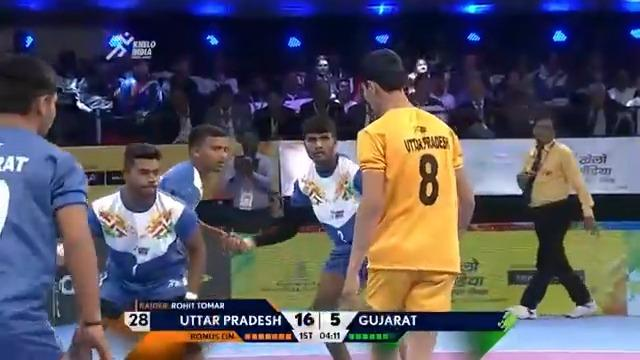Player: (223, 114, 370, 358), (0, 52, 112, 359), (85, 141, 207, 358), (156, 123, 248, 300)
Raider: (337, 47, 476, 358)
referee: (499, 116, 600, 325)
